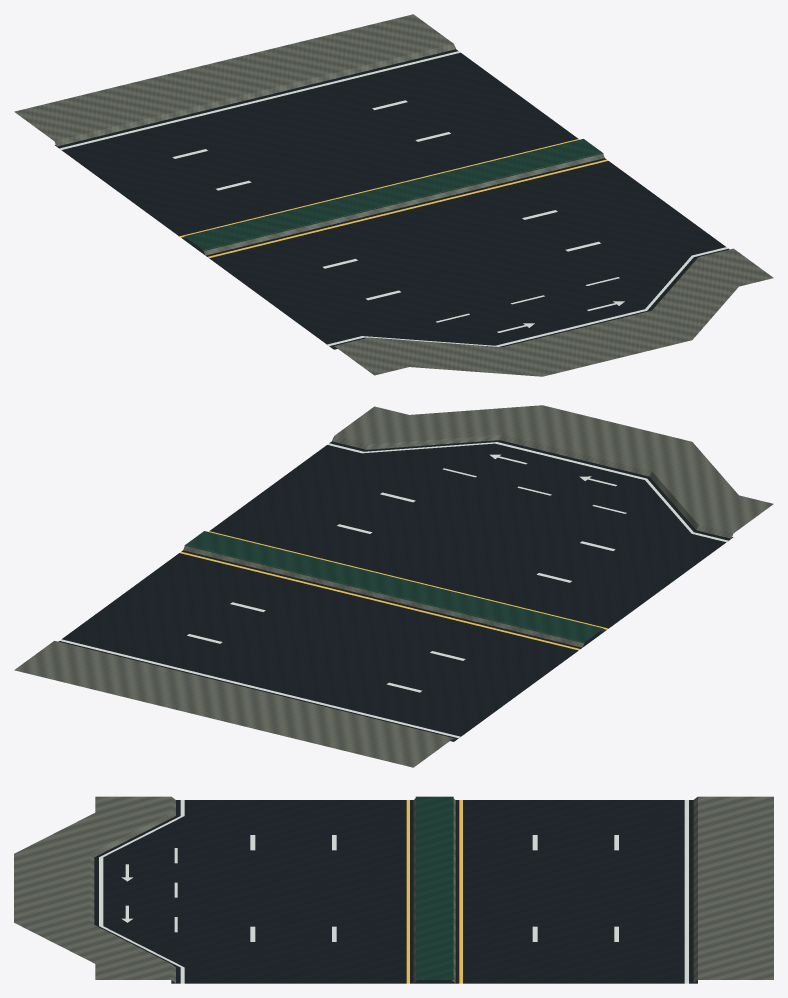
The model's file is road_arterial_6lane_16m_turn_bay_LOD1.glb.
The picture shows the model from 3 angles, top to bottom: view 1: azimuth 30°, elevation 25°; view 2: azimuth 150°, elevation 25°; view 3: azimuth 270°, elevation 25°; orthographic projection. The views are drawn at different scales.
Visible parts, largest first — view 1: road_arterial_6lane_16m_turn_bay__surface.001, road_arterial_6lane_16m_turn_bay__markings.001; view 2: road_arterial_6lane_16m_turn_bay__surface.001, road_arterial_6lane_16m_turn_bay__markings.001; view 3: road_arterial_6lane_16m_turn_bay__surface.001, road_arterial_6lane_16m_turn_bay__markings.001, road_arterial_6lane_16m_turn_bay__inset_bay.001.
Part boxes in pixels (x1,y1,x2,y2): road_arterial_6lane_16m_turn_bay__surface.001: (14, 14, 773, 376); road_arterial_6lane_16m_turn_bay__markings.001: (59, 51, 728, 346); road_arterial_6lane_16m_turn_bay__surface.001: (14, 405, 773, 767); road_arterial_6lane_16m_turn_bay__markings.001: (59, 442, 728, 738); road_arterial_6lane_16m_turn_bay__surface.001: (14, 796, 773, 983); road_arterial_6lane_16m_turn_bay__markings.001: (99, 800, 688, 983); road_arterial_6lane_16m_turn_bay__inset_bay.001: (121, 848, 177, 932).
Bounding box in the file's own units: 16 × 0.15 × 28.
Materials: 6 (4 with a texture image).
